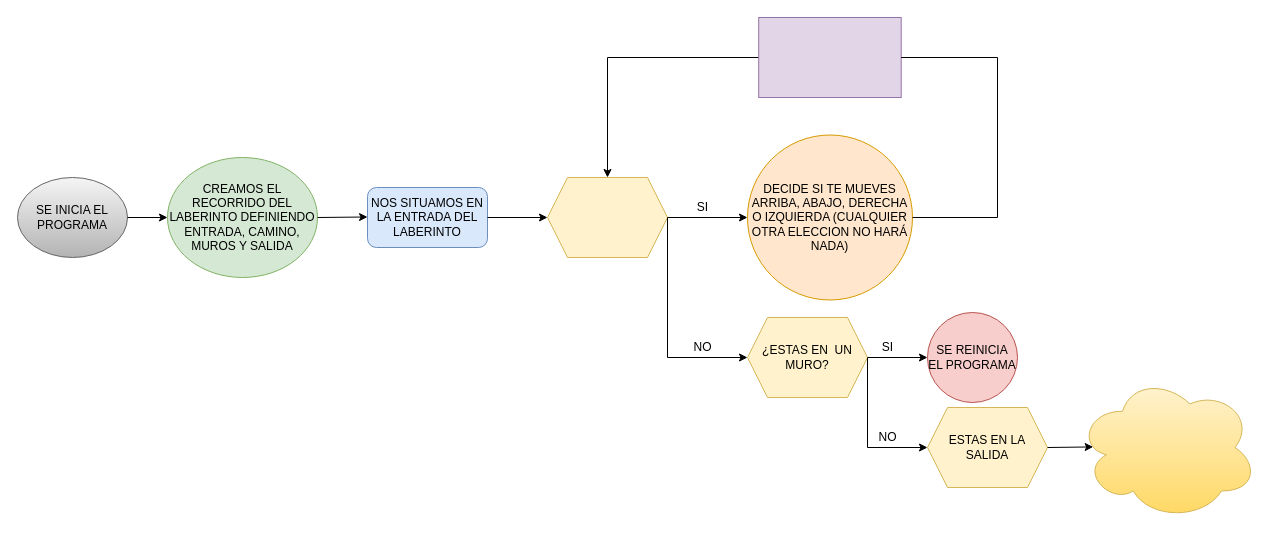
Some shapes in this 1275 by 538 pixel diagram are drawn without their labels. Each missing label, with the box of its shape:
TE ENCUENTRAS EN LA POSICION (X, Y). CONTINUA MOVIENDOTE: (758, 16, 901, 98)
¡¡¡ENHORABUENA, HAS CONSEGUIDO SALIR DEL LABERINTO!!!: (1076, 374, 1258, 520)
¿ESTAS EN LA ENTRADA O EN EL CAMINO?: (546, 176, 668, 258)
